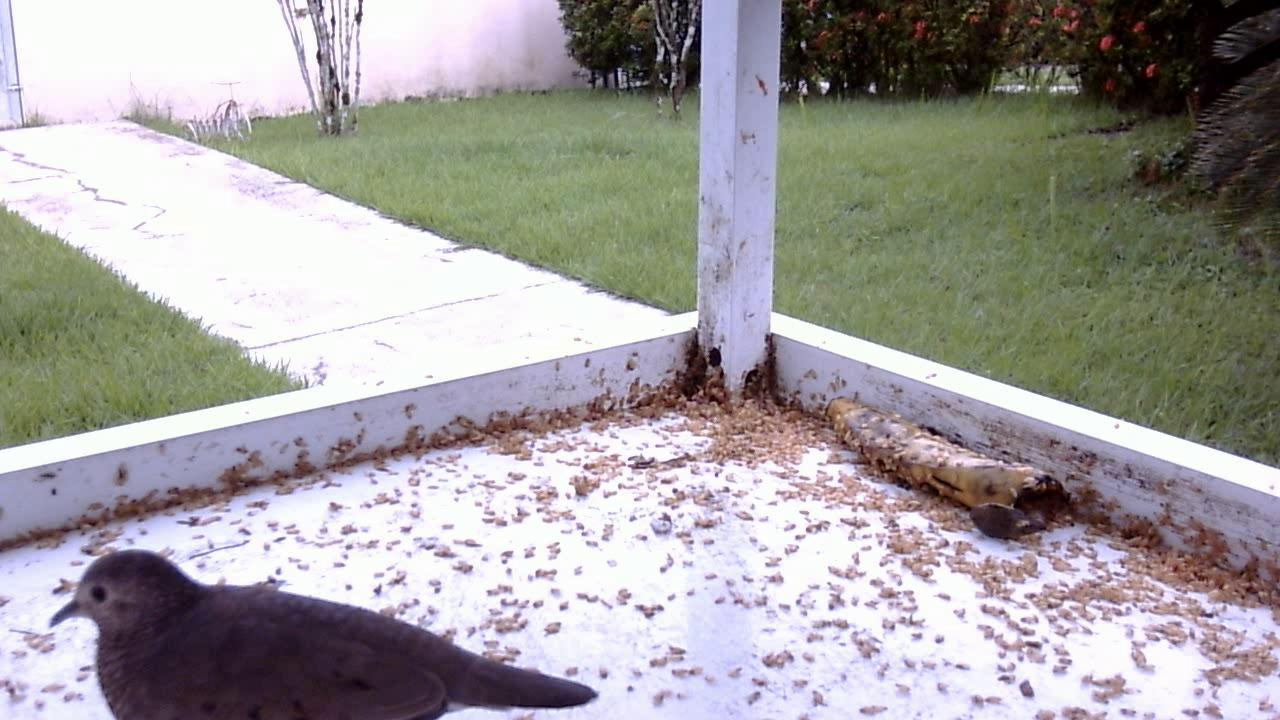rolinha: (44, 529, 600, 720)
